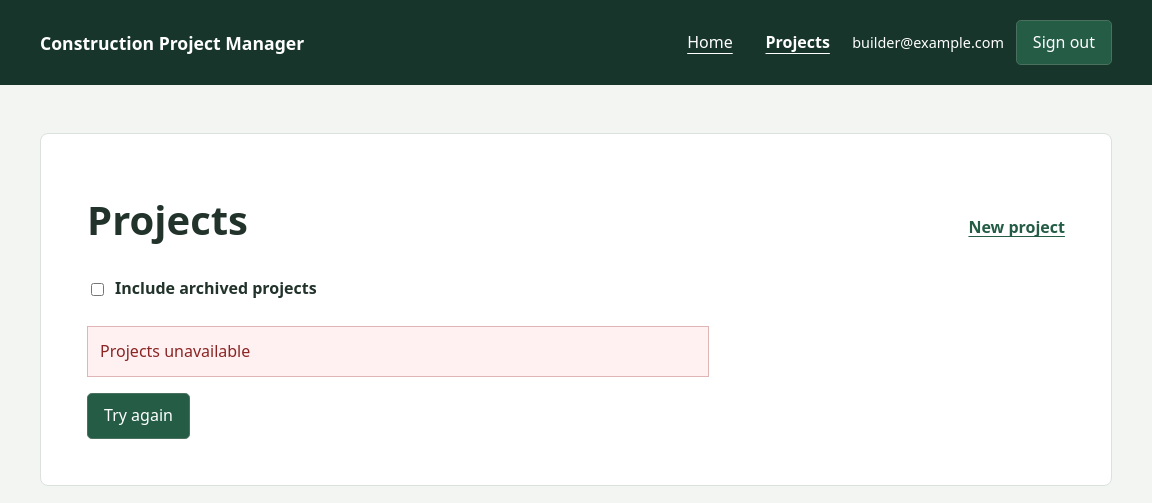
Projects frontend › shows API errors and retries successfully
Expected: the message reads "Projects unavailable", [100, 340, 250, 362]
Click the button "Try again" at x=138, y=416, box [87, 394, 190, 439]
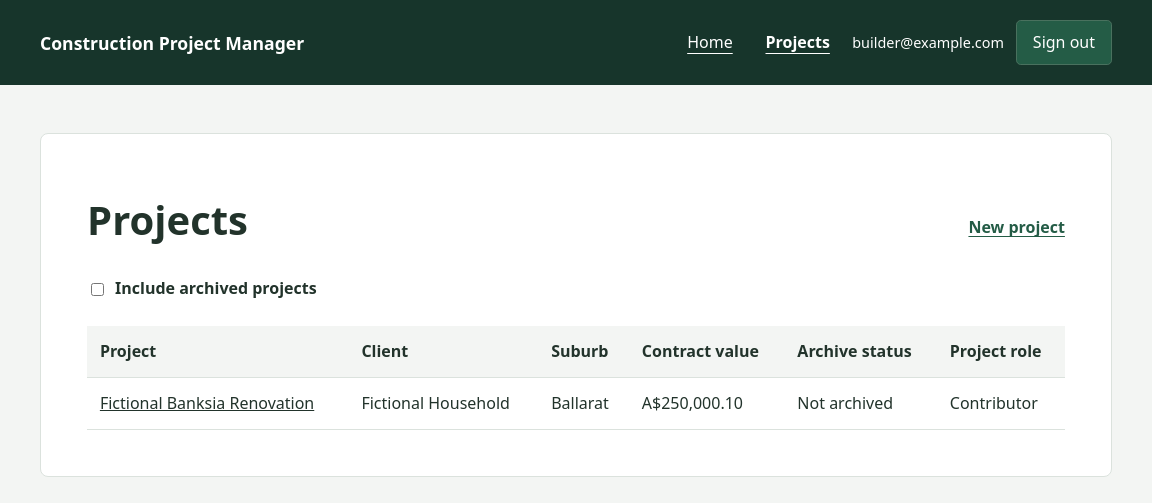
Now the link "Fictional Banksia Renovation" is shown, box [100, 392, 314, 414]
